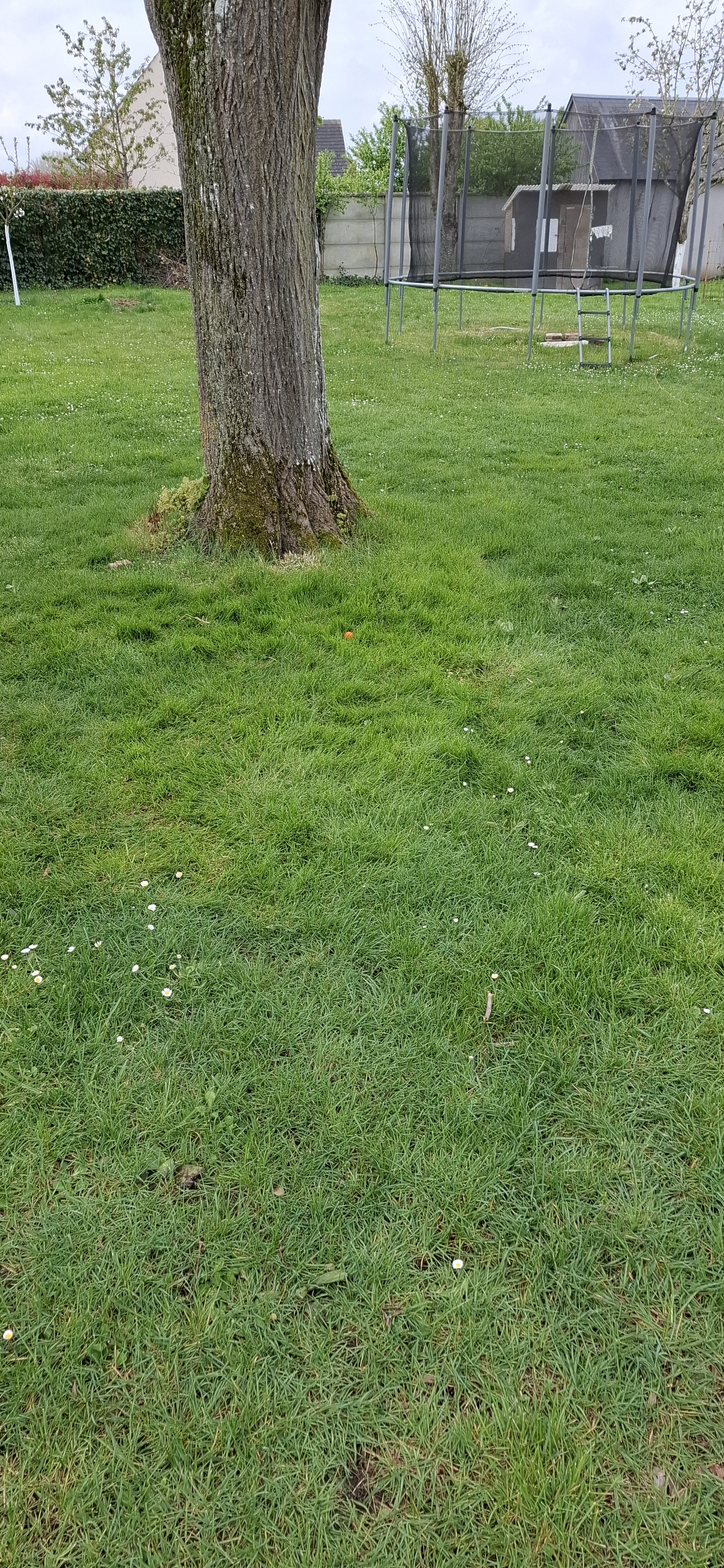ball: (292, 803, 296, 822)
